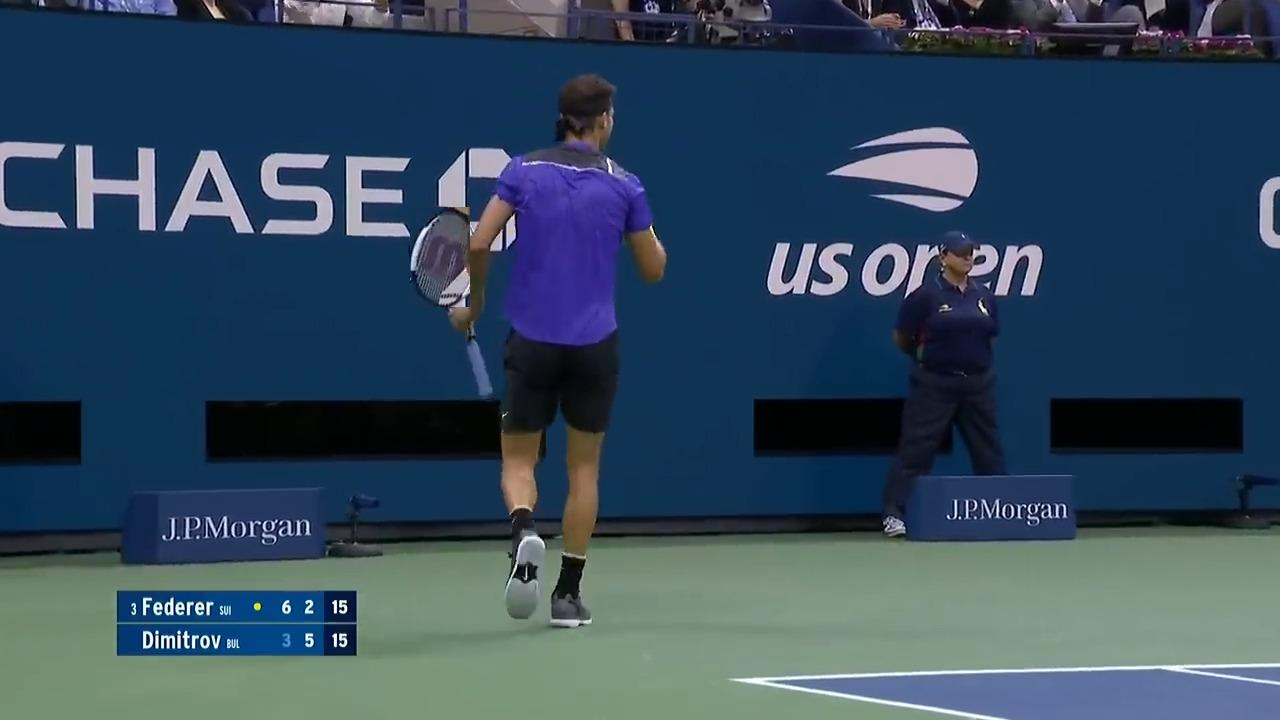tennis racket: (410, 208, 470, 307), (467, 325, 494, 400)
